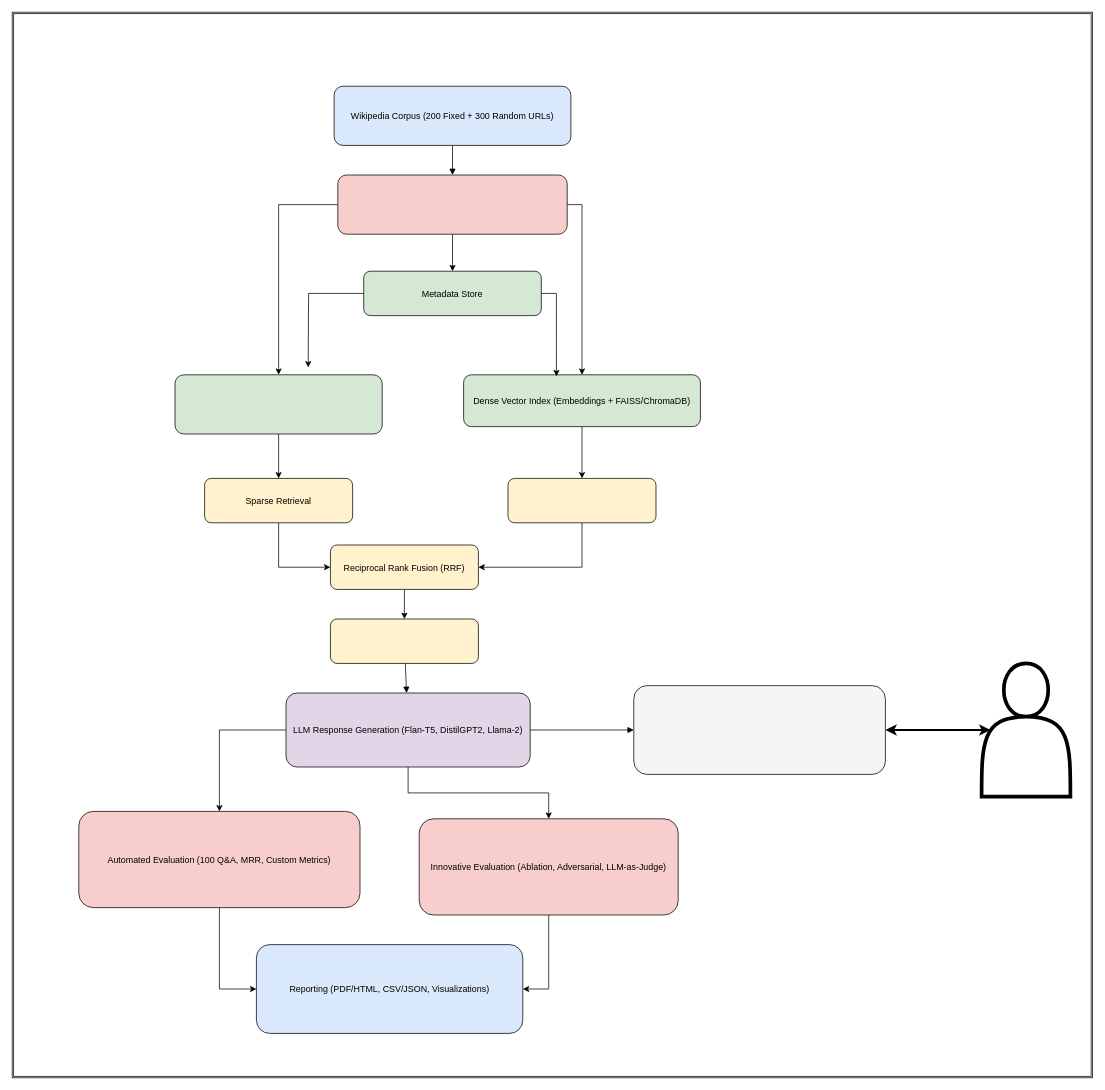
This 1105x1090 diagram has some shape labels left out. Here are the shapes that lost their labels. From the top down, the centre of each, then its label:
At point (452, 204): "Preprocessing (Cleaning, Chunking, Metadata)".
At point (278, 404): "Sparse Keyword Index (BM25)".
At point (581, 500): "Dense Retrieval".
At point (404, 640): "Top-N Chunks".
At point (759, 729): "User Interface (Streamlit / Gradio / Flask)".
